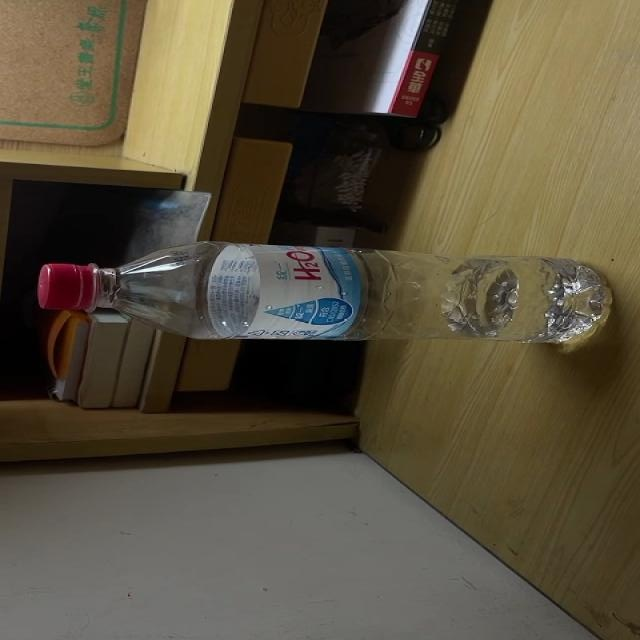Water: (38, 240, 612, 344)
